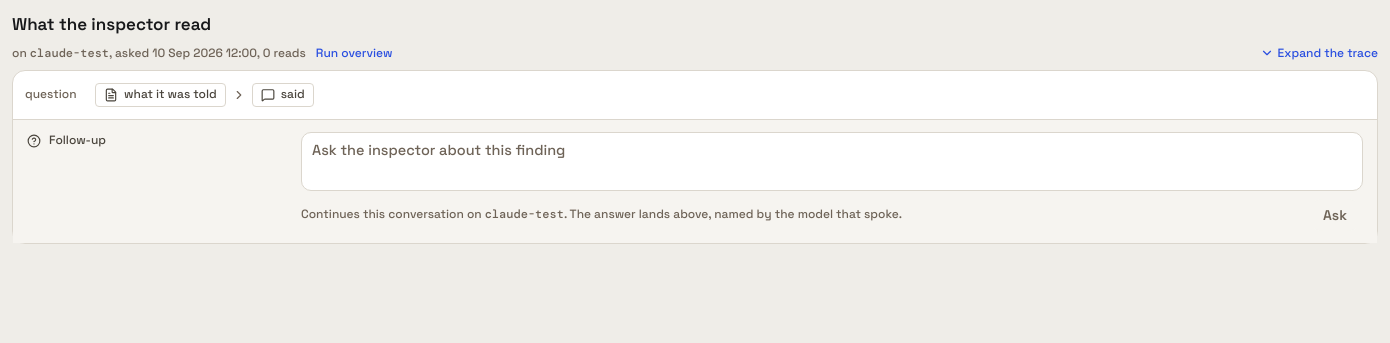
Scenario: Trace › reads a text response before any follow-up as said, not answered
Click the button "said". click: (283, 95)
box: [252,83,314,107]
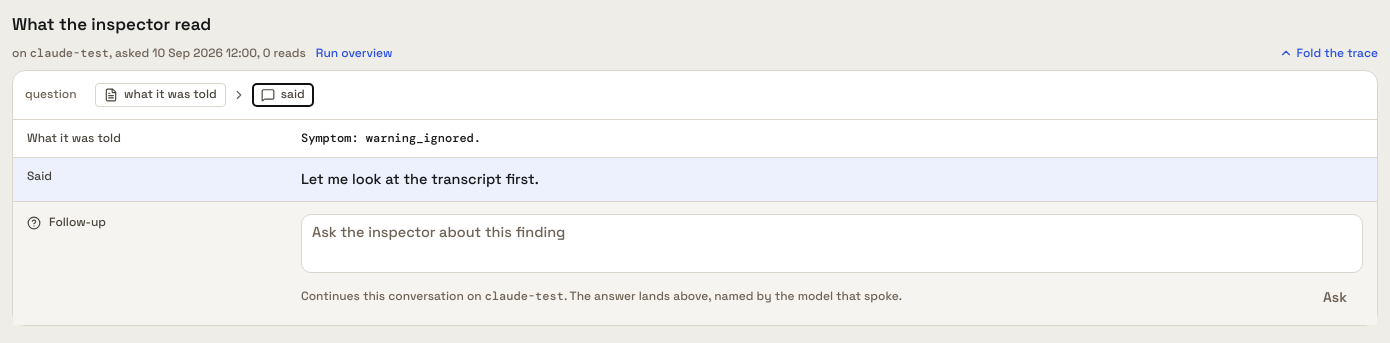
Now the text "Said" is shown, box [27,168,52,184]
